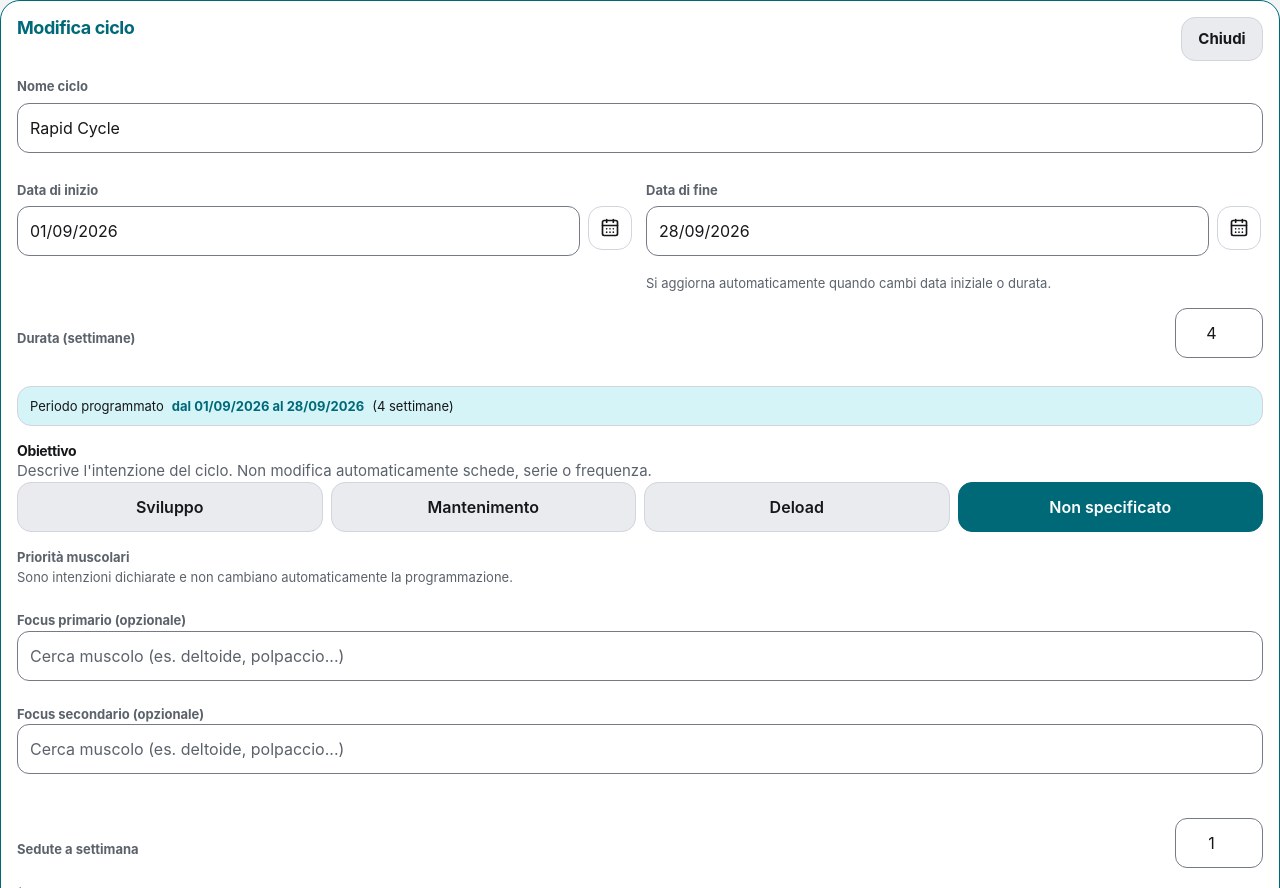
Test: Challenger 2 Empirical Stress Test Suite: Requirement R5 Training Cycle Date Math & Two-Way Reactivity › 3. CycleEditor Two-Way Reactive State Transitions › 3.1 Rapid duration input changes and empty string recovery
The width and height of the screenshot is (1280, 888).
Clear the number field with id "cycle-duration-weeks" at (1219, 333), box [1175,308,1263,358]
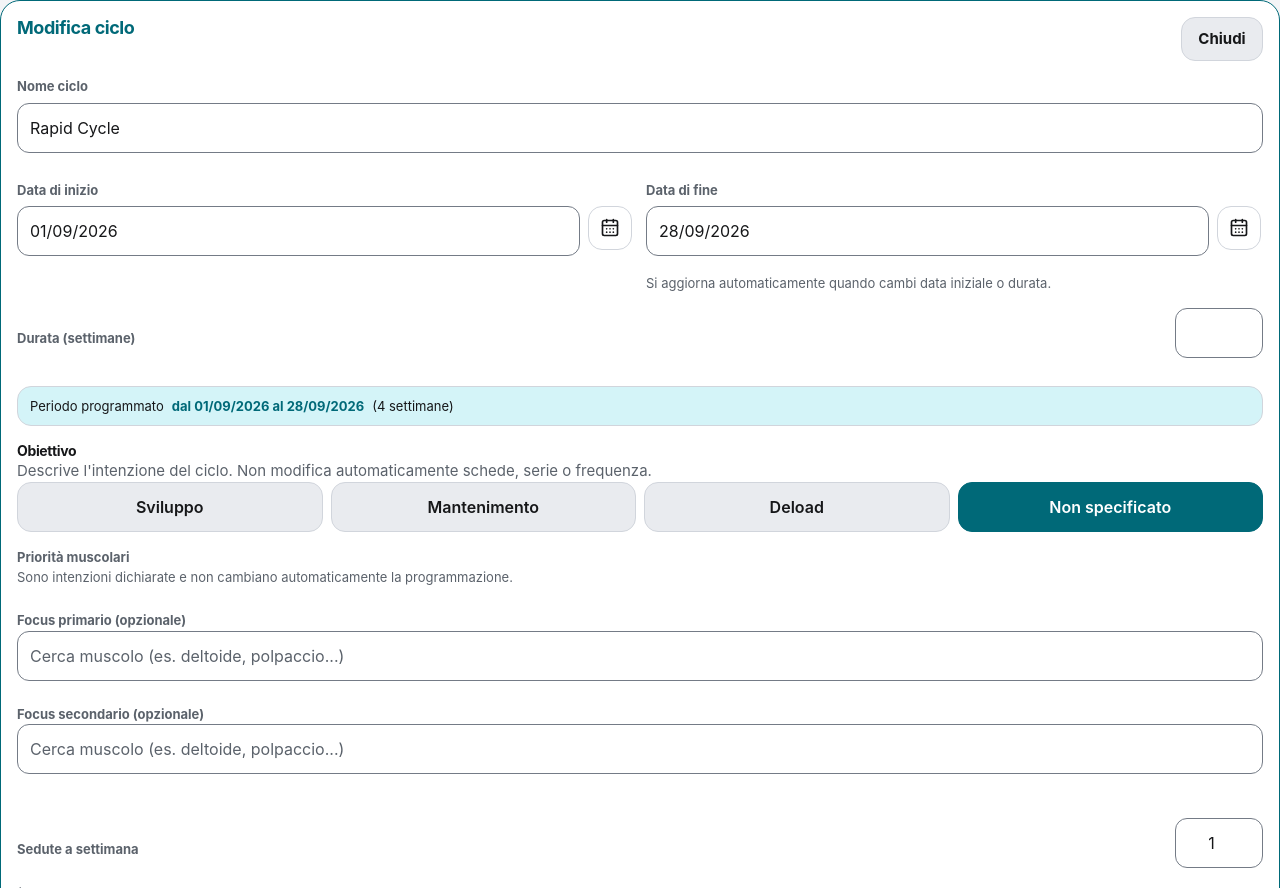
Check: the field with id "cycle-end-date" holds "28/09/2026", box [646,206,1209,256]
Type "1" into the number field with id "cycle-duration-weeks" at (1219, 333), box [1175,308,1263,358]
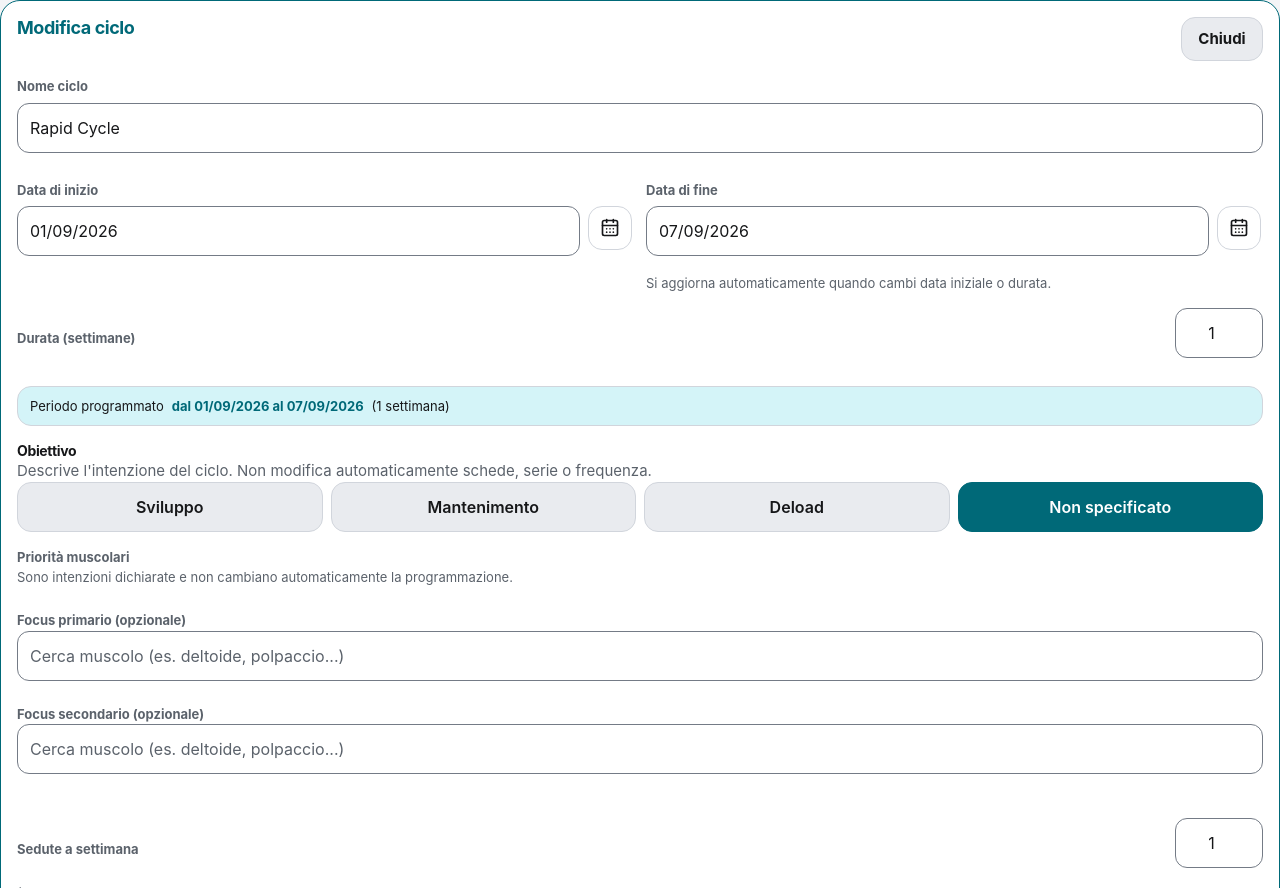
Check: the field with id "cycle-end-date" holds "07/09/2026", box [646,206,1209,256]
Replace the text in the number field with id "cycle-duration-weeks" with "12" at (1219, 333), box [1175,308,1263,358]
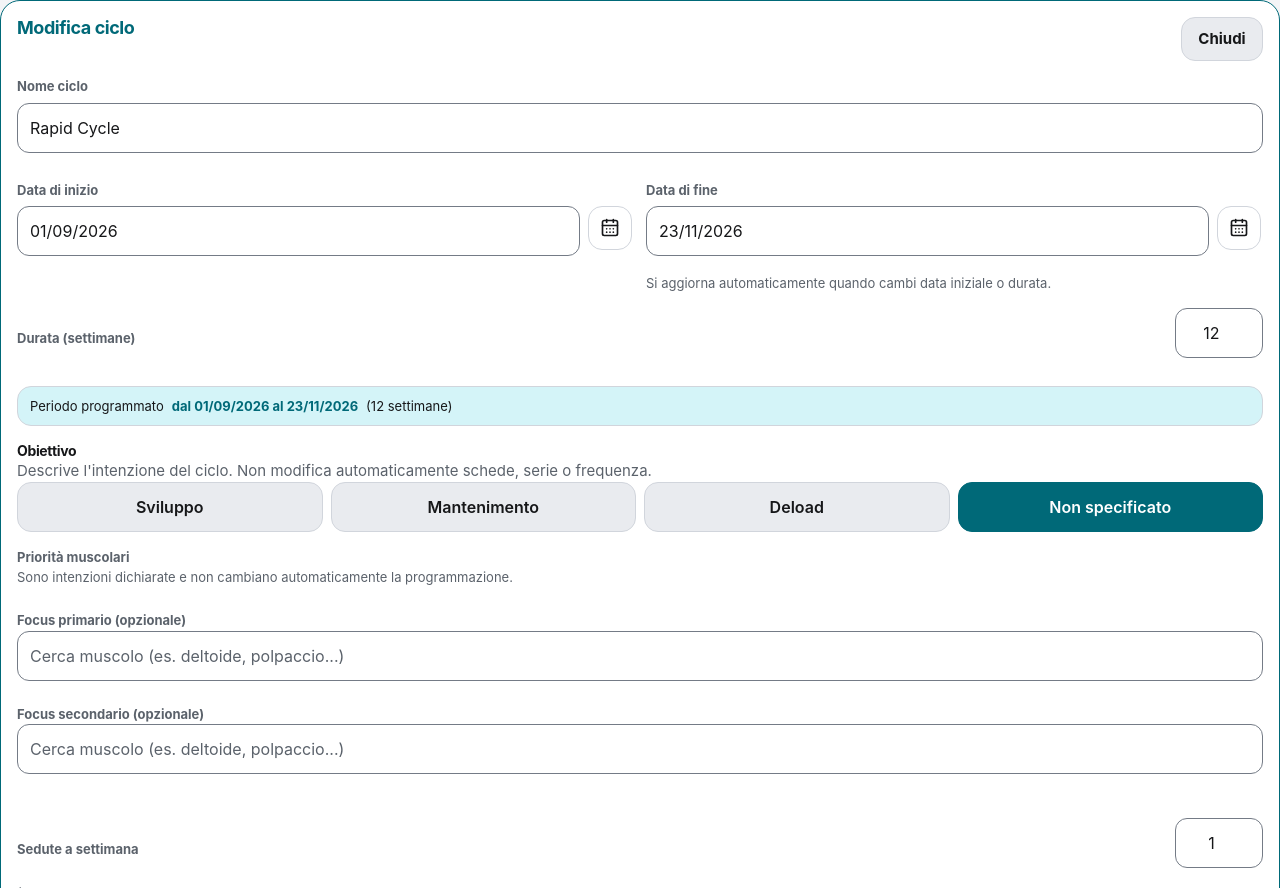
Check: the field with id "cycle-end-date" holds "23/11/2026", box [646,206,1209,256]
Replace the text in the number field with id "cycle-duration-weeks" with "6" at (1219, 333), box [1175,308,1263,358]
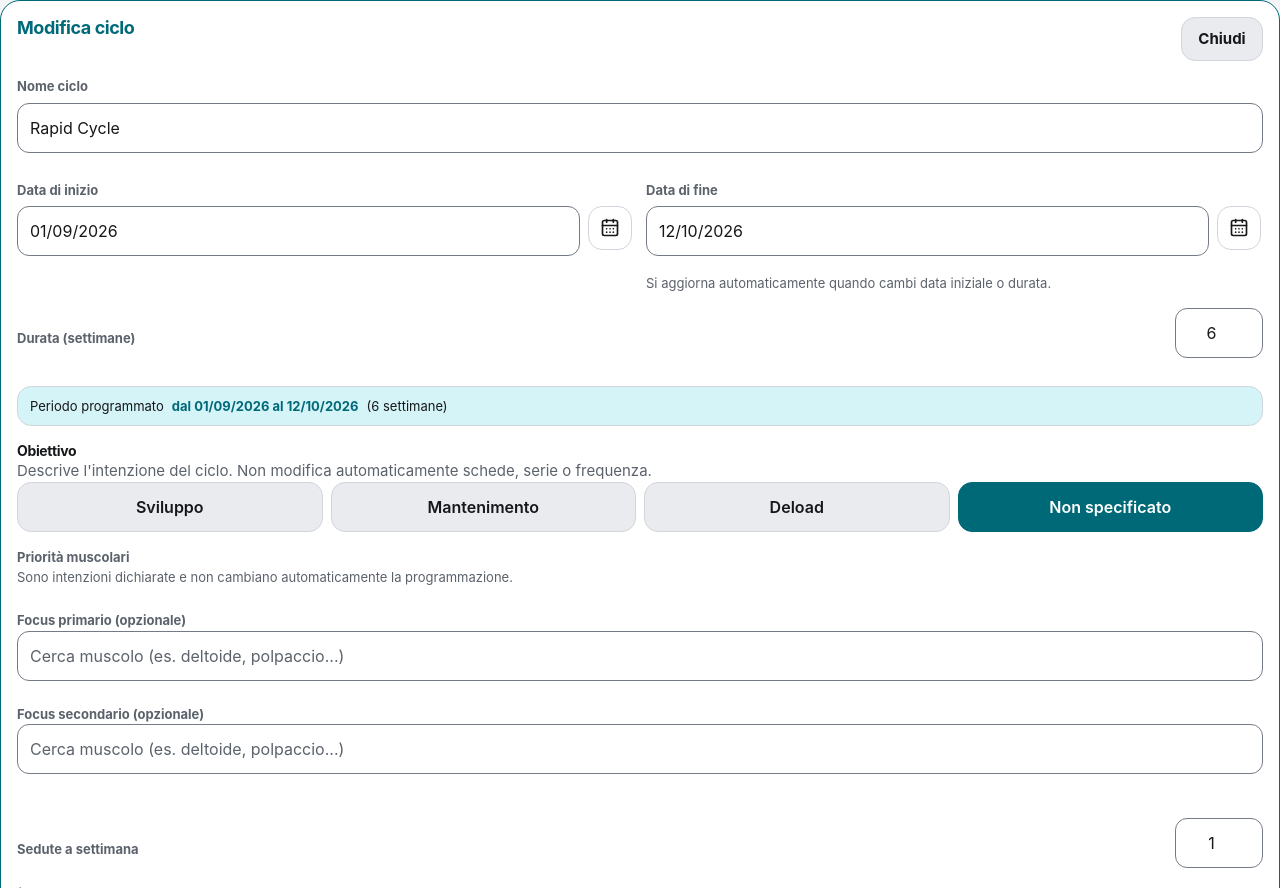
Check: the field with id "cycle-end-date" holds "12/10/2026", box [646,206,1209,256]
